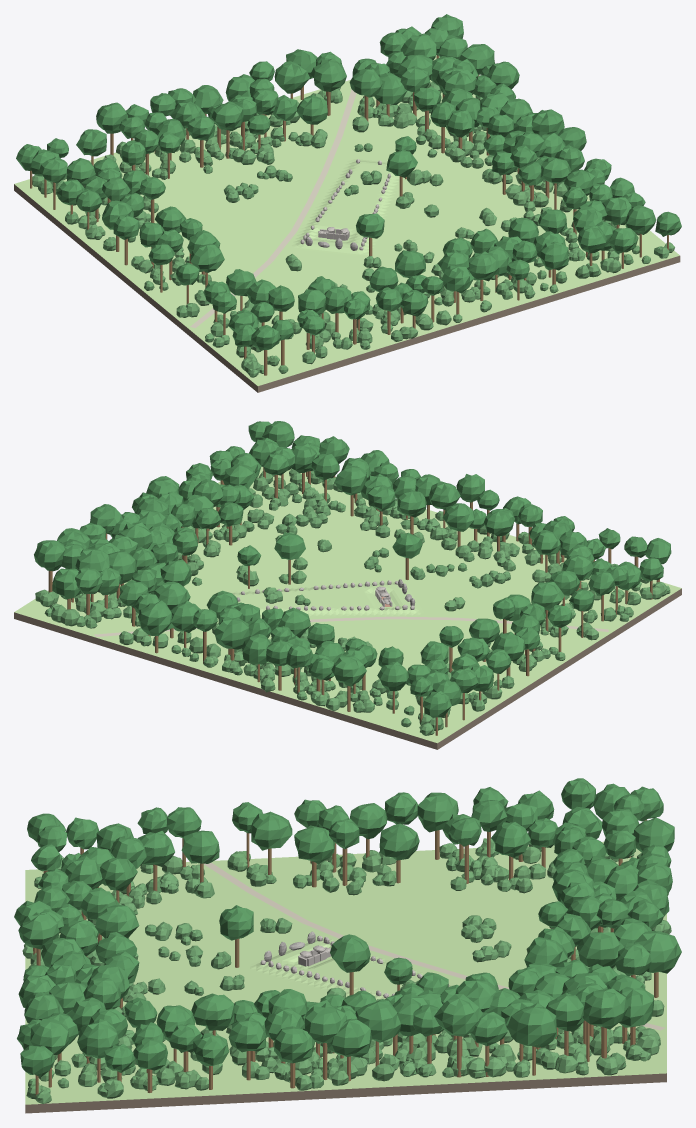
File: Dwasieden.glb
The picture shows the model from 3 angles, top to bottom: view 1: azimuth 30°, elevation 25°; view 2: azimuth 150°, elevation 25°; view 3: azimuth 270°, elevation 25°; orthographic projection. The views are drawn at different scales.
Parts seen in each view (by area): view 1: Baeume_Laub, Gelaende_Boden, Buesche, Baeume_Stamm, Gelaende_Rand, Weg; view 2: Baeume_Laub, Gelaende_Boden, Buesche, Gelaende_Rand, Baeume_Stamm, Weg, Huenenbett_Randsteine; view 3: Baeume_Laub, Gelaende_Boden, Buesche, Baeume_Stamm, Gelaende_Rand, Weg, Huenenbett_Randsteine.
Boxes of the visible parts, x1,y1,x2,y2 form: Baeume_Laub: (16, 14, 681, 350); Gelaende_Boden: (14, 55, 679, 385); Buesche: (32, 82, 674, 377); Baeume_Stamm: (30, 55, 668, 375); Gelaende_Rand: (14, 184, 680, 392); Weg: (190, 89, 356, 328); Baeume_Laub: (34, 421, 671, 717); Gelaende_Boden: (14, 466, 681, 743); Buesche: (35, 469, 670, 735); Gelaende_Rand: (14, 588, 681, 749); Baeume_Stamm: (48, 467, 659, 735); Weg: (94, 616, 608, 636); Huenenbett_Randsteine: (237, 580, 414, 610); Baeume_Laub: (14, 778, 681, 1077); Gelaende_Boden: (25, 841, 666, 1104); Buesche: (22, 838, 671, 1103); Baeume_Stamm: (33, 819, 658, 1096); Gelaende_Rand: (25, 1073, 666, 1113); Weg: (204, 862, 665, 1030); Huenenbett_Randsteine: (260, 935, 449, 998).
Bounding box in the file's own units: 103 × 25.86 × 104.
